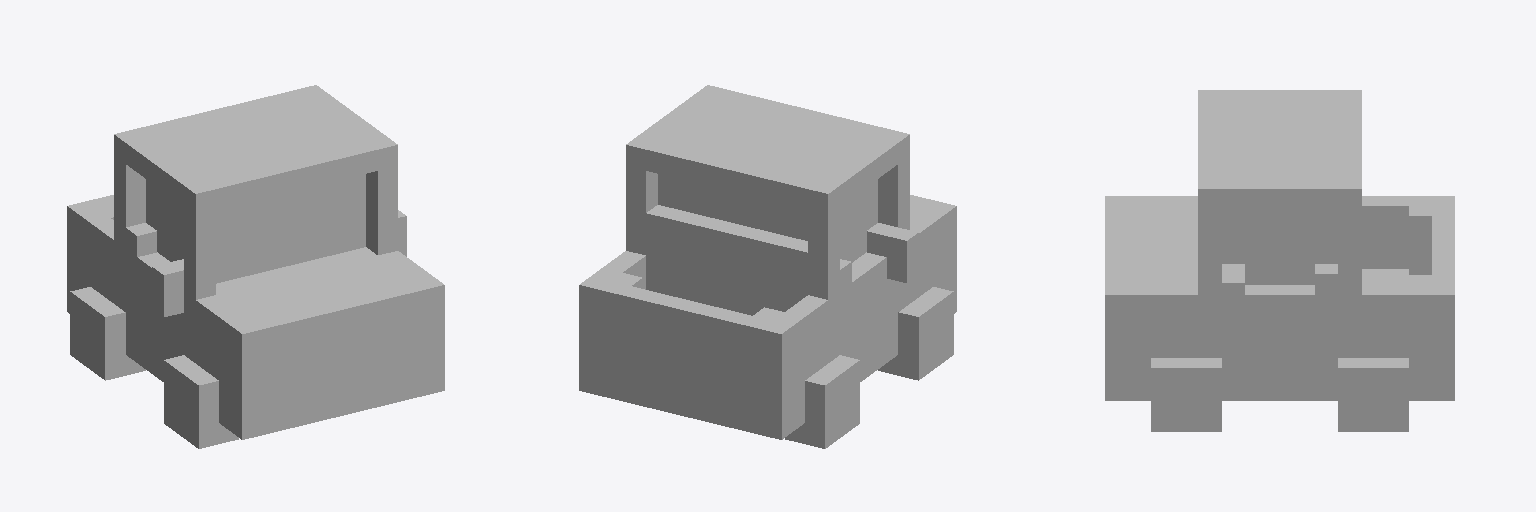
File: Voxel Design (Cars)-10.obj
3 renders of one model, left to right at view 1: azimuth 30°, elevation 25°; view 2: azimuth 150°, elevation 25°; view 3: azimuth 270°, elevation 25°, orthographic.
Parts seen in each view (by area): view 1: object 1; view 2: object 1; view 3: object 1.
Boxes of the visible parts, x1,y1,x2,y2 form: object 1: [67, 85, 444, 448]; object 1: [579, 85, 956, 448]; object 1: [1105, 90, 1454, 431].
Bounding box in the file's own units: 1.2 × 1.1 × 1.5.